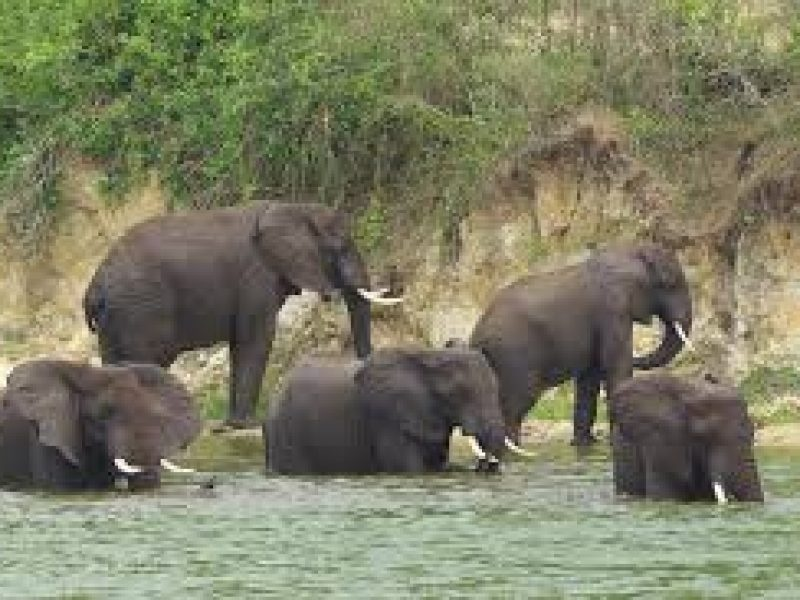elephant: (79, 197, 409, 435), (469, 231, 699, 470), (258, 341, 540, 483), (1, 356, 201, 501), (601, 364, 766, 508)
